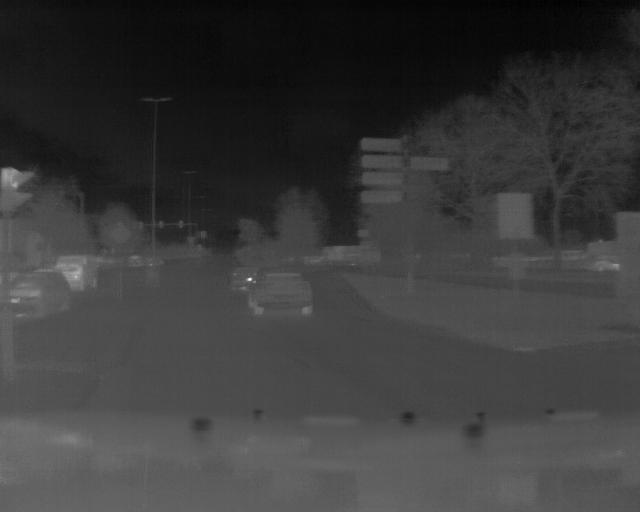car: (1, 269, 72, 321), (245, 269, 317, 319), (51, 255, 101, 293)
